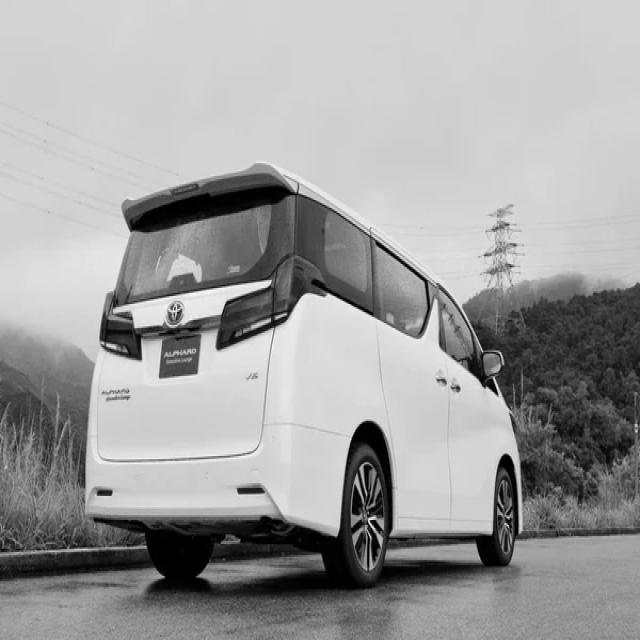Car: (86, 163, 525, 588)
